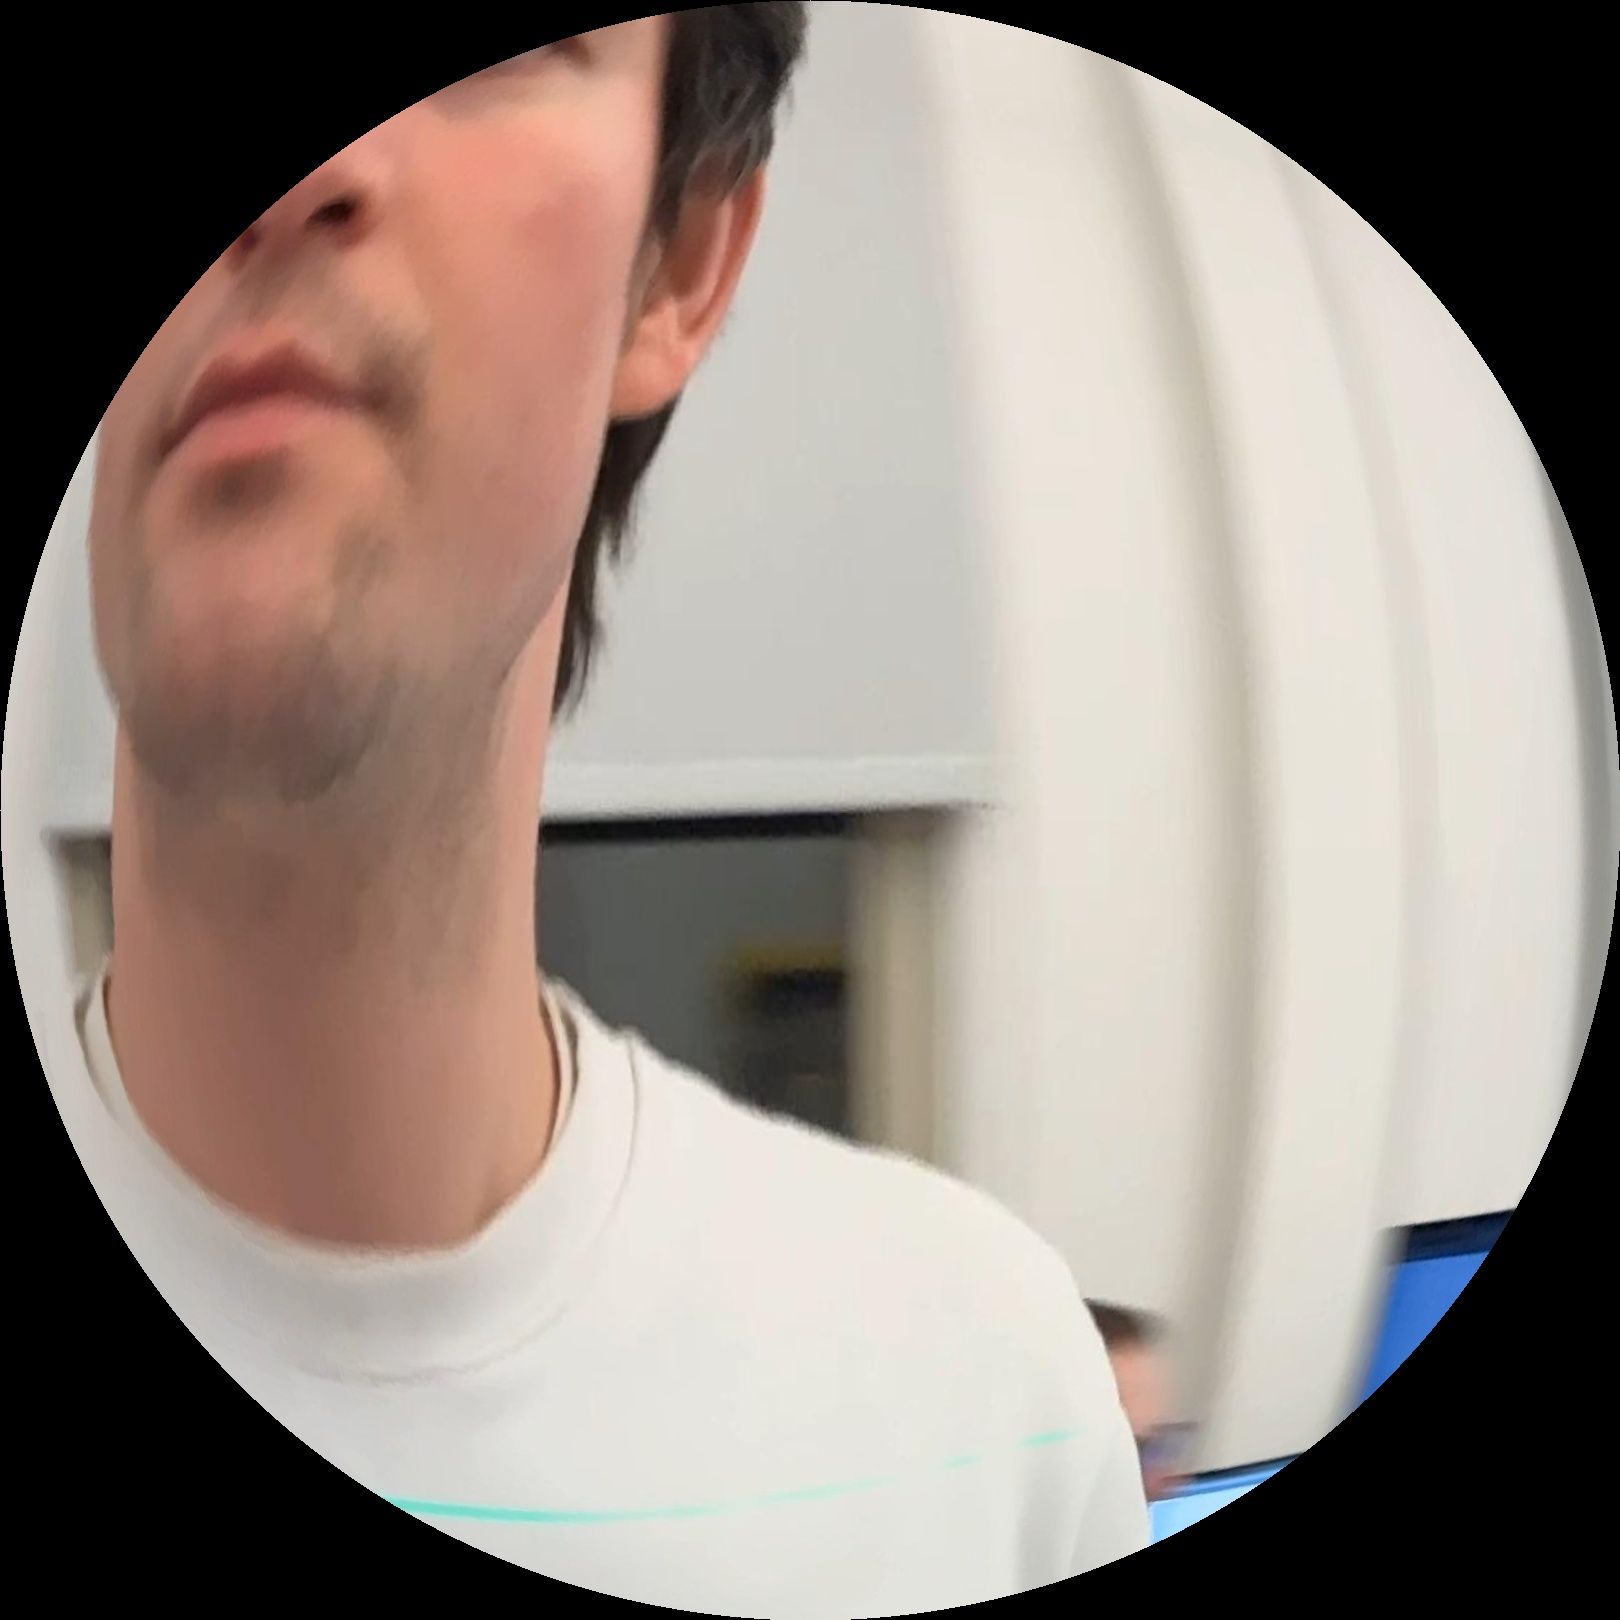face: (49, 10, 710, 820)
